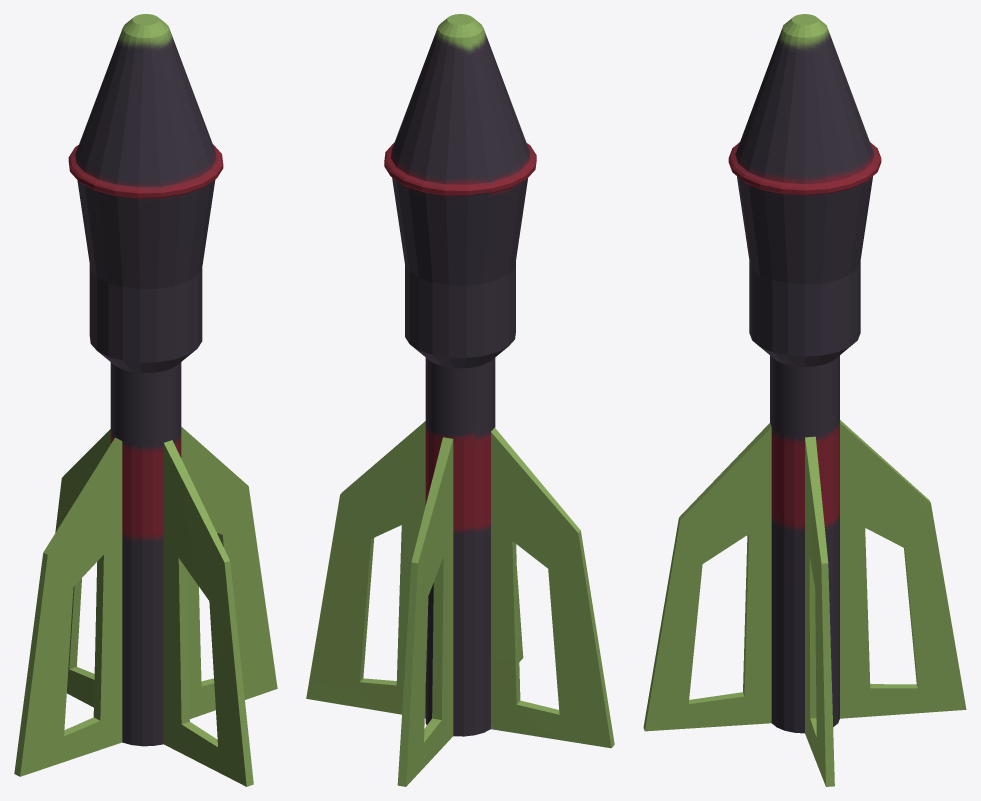
Rendered from MisselAlien.fbx.
3 renders of one model, left to right at view 1: azimuth 30°, elevation 25°; view 2: azimuth 150°, elevation 25°; view 3: azimuth 270°, elevation 25°, orthographic.
Parts seen in each view (by area): view 1: pCylinder3; view 2: pCylinder3; view 3: pCylinder3.
Part boxes in pixels (box(x1,y1,x2,y2)): pCylinder3: box(14, 14, 277, 786); pCylinder3: box(306, 14, 614, 786); pCylinder3: box(643, 14, 966, 786).
Size of the model in its own units: 108 by 258 by 108.
Materials: 1 (1 with a texture image).
